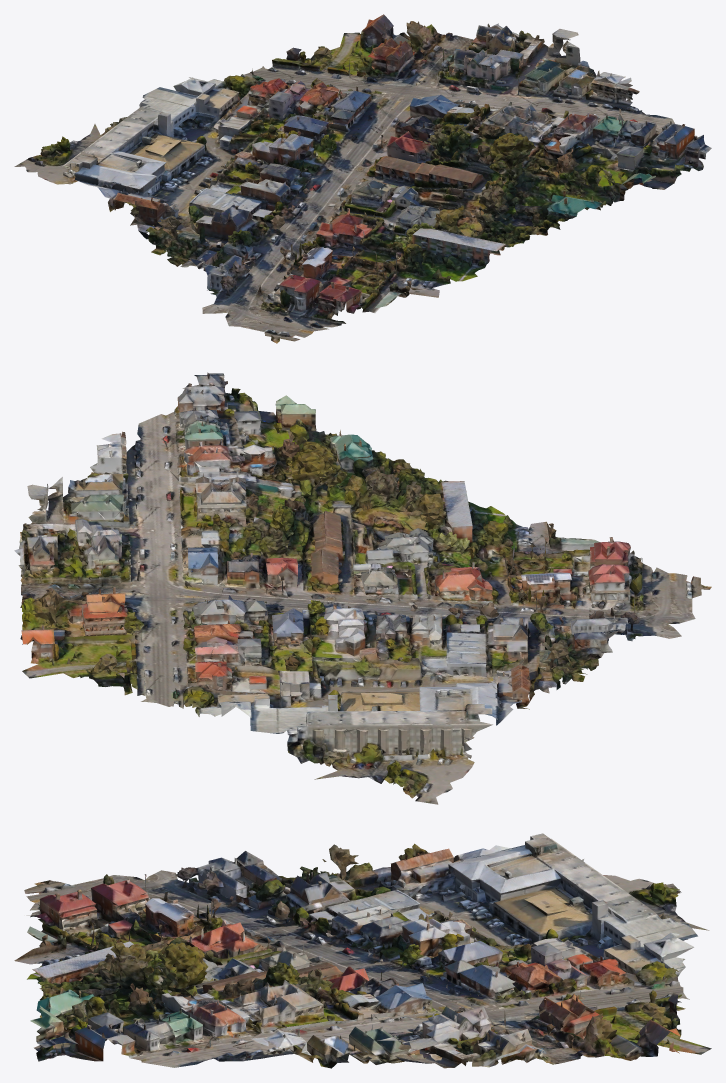
The model's file is Tile_013_006_L18.gltf.
3 renders of one model, top to bottom at view 1: azimuth 30°, elevation 25°; view 2: azimuth 150°, elevation 25°; view 3: azimuth 270°, elevation 25°, orthographic. The views are drawn at different scales.
Parts seen in each view (by area): view 1: Tile_+013_+006_L18; view 2: Tile_+013_+006_L18; view 3: Tile_+013_+006_L18.
Boxes of the visible parts, <box> form: Tile_+013_+006_L18: <box>14,14,711,343</box>; Tile_+013_+006_L18: <box>14,372,711,804</box>; Tile_+013_+006_L18: <box>14,833,711,1068</box>.
Size of the model in its own units: 221 by 44.4 by 221.
1 material, 1 textured.
